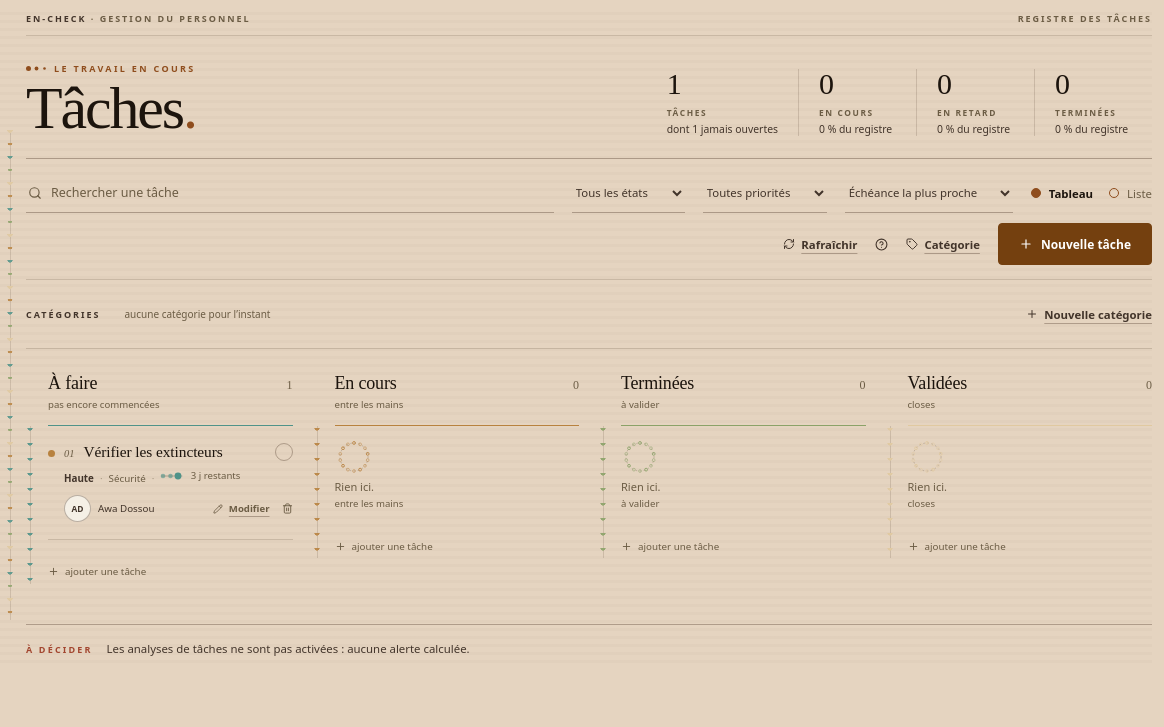
la vue Tâches › sélectionne puis vide une sélection sans toucher aux tâches
This screenshot has width=1164, height=727.
Click the button with class "rg-case" at (284, 452), box x1=274 y1=443 x2=292 y2=461
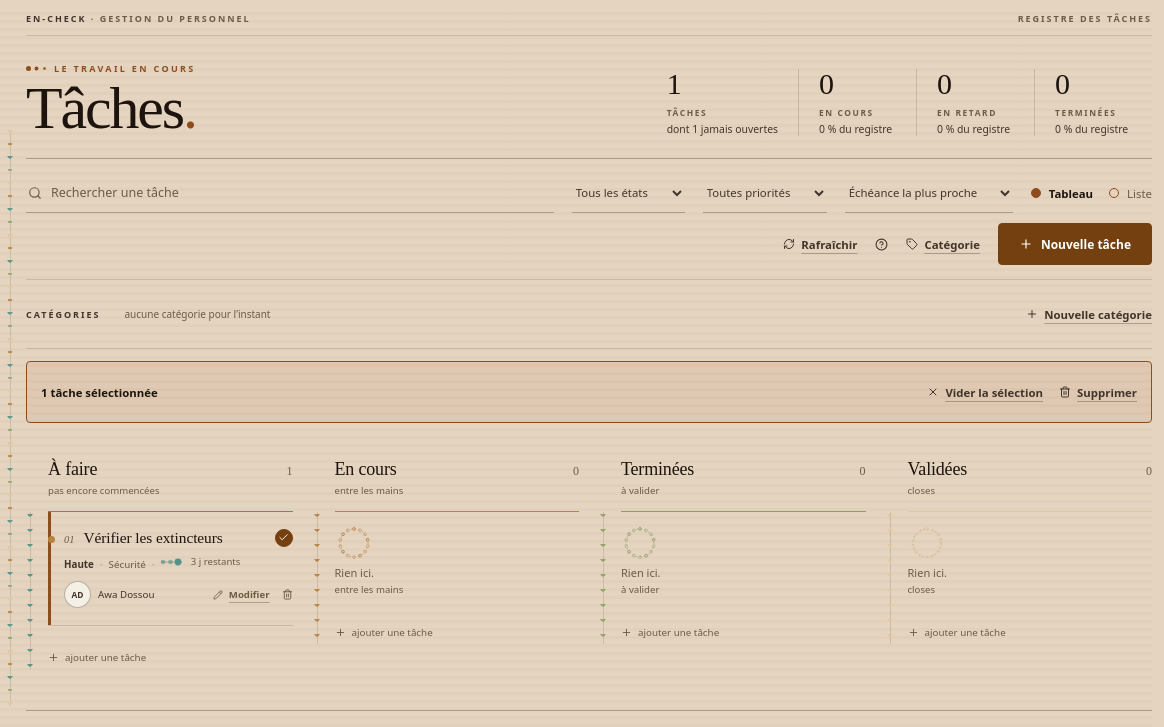
Check: the text "1 tâche sélectionnée" is shown, box x1=41 y1=385 x2=158 y2=400
Click the button "Vider la sélection" at (985, 392), box x1=927 y1=372 x2=1043 y2=412
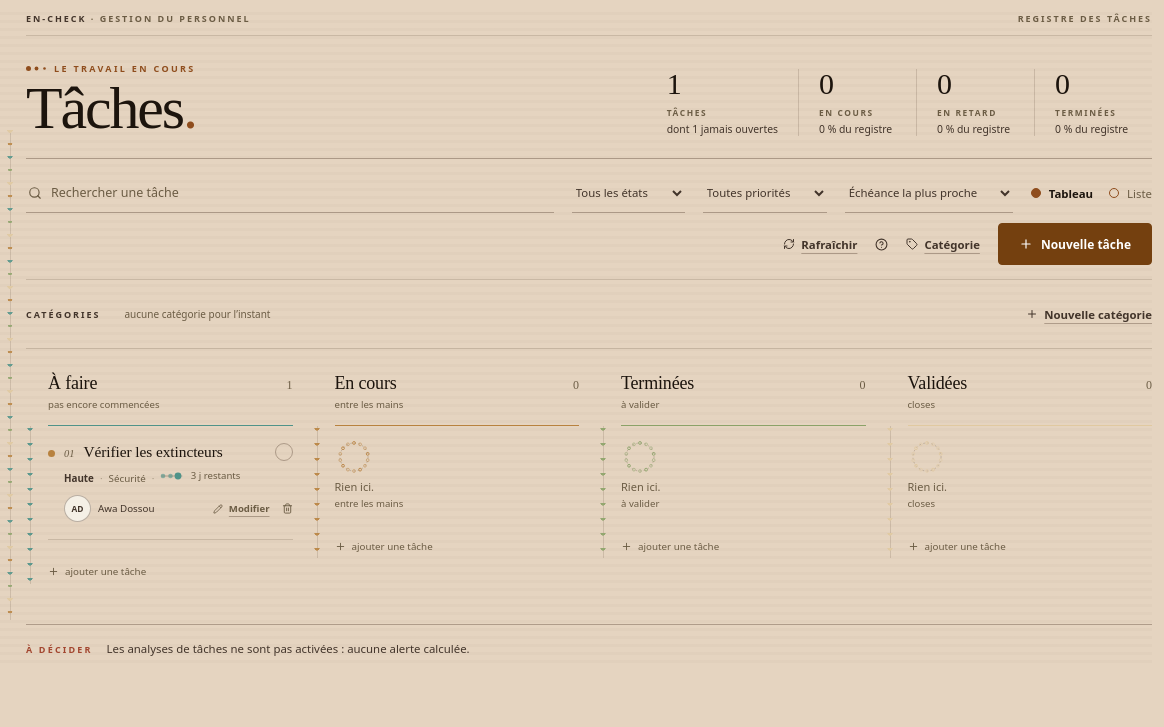
Check: the text "tâche sélectionnée" is gone
